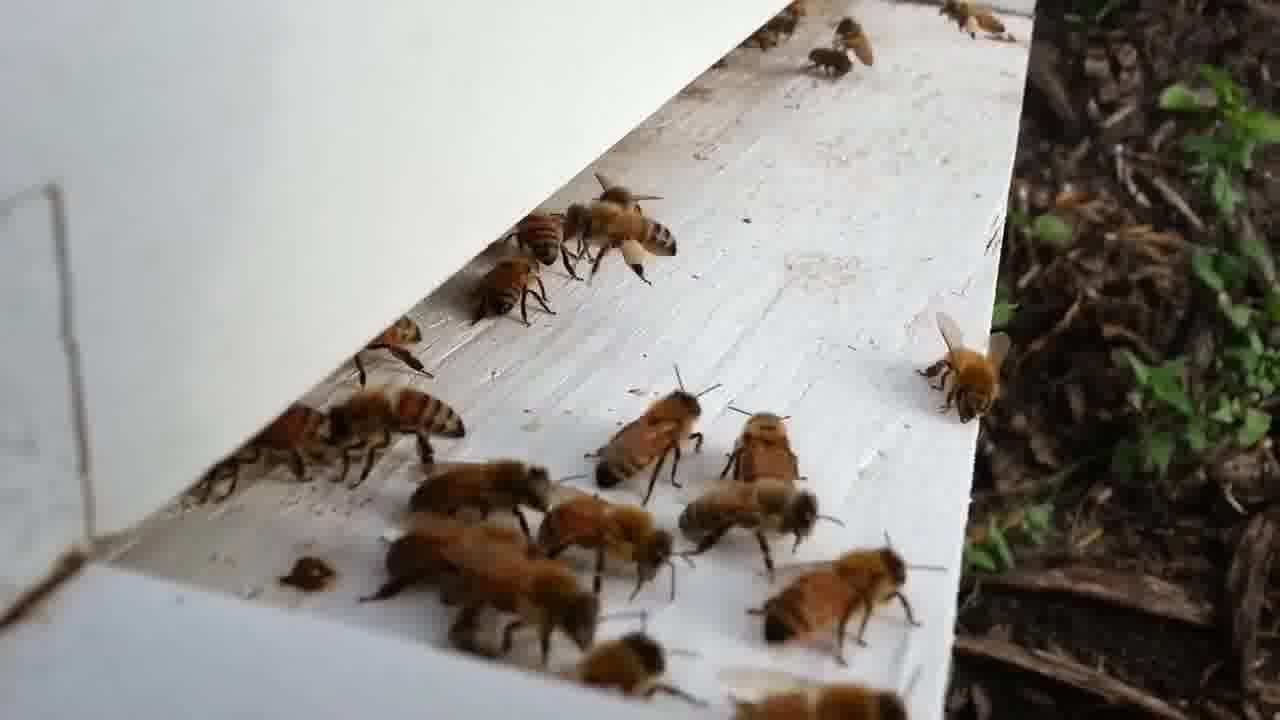pollen: (564, 200, 677, 289)
